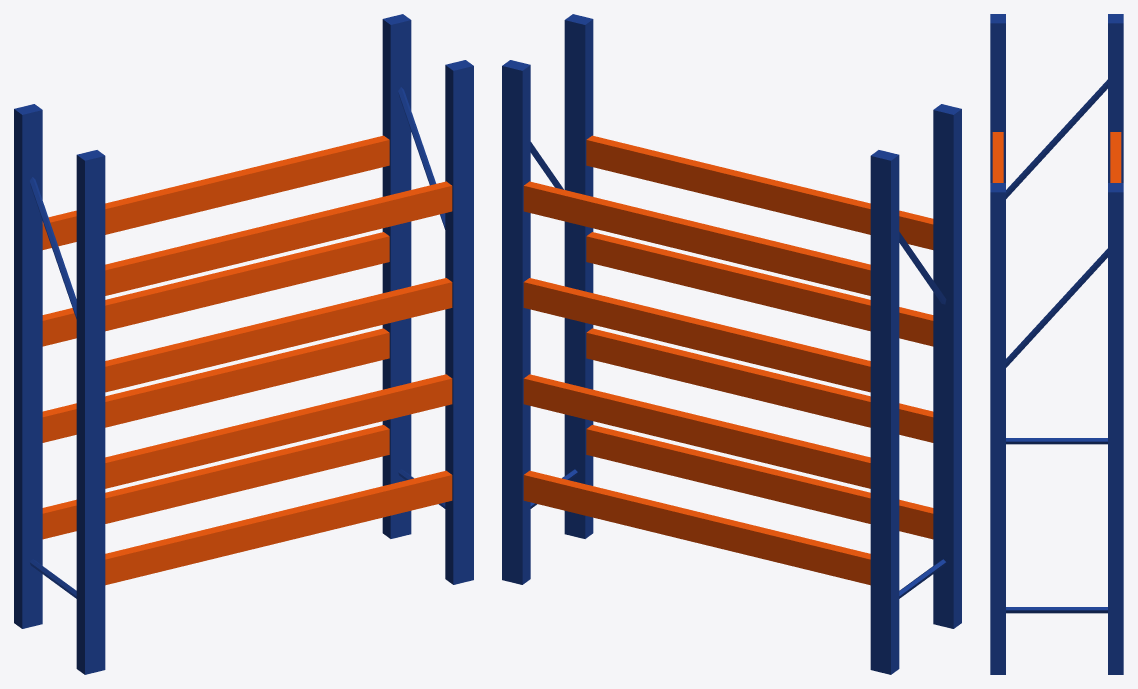
Rendered from industrial.racking.shelving.glb.
3 renders of one model, left to right at view 1: azimuth 30°, elevation 25°; view 2: azimuth 150°, elevation 25°; view 3: azimuth 270°, elevation 25°, orthographic. The views are drawn at different scales.
Visible parts, largest first — view 1: main__hivis_orange, main__plastic_blue; view 2: main__hivis_orange, main__plastic_blue; view 3: main__plastic_blue, main__hivis_orange.
Boxes of the visible parts, x1=… form: main__hivis_orange: x1=42, y1=135, x2=452, y2=585; main__plastic_blue: x1=14, y1=14, x2=473, y2=674; main__hivis_orange: x1=523, y1=135, x2=933, y2=585; main__plastic_blue: x1=502, y1=14, x2=961, y2=674; main__plastic_blue: x1=990, y1=14, x2=1123, y2=674; main__hivis_orange: x1=992, y1=132, x2=1121, y2=182.
Bounding box in the file's own units: 1.9 × 2.4 × 0.6.
